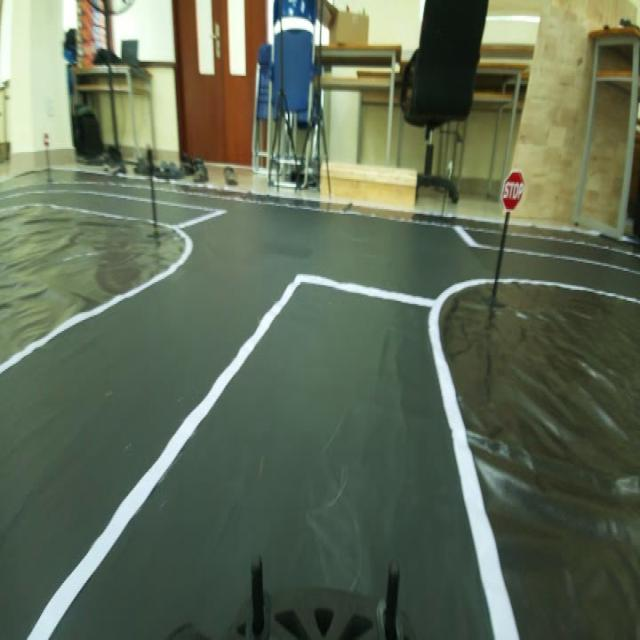stop: (498, 165, 530, 222)
